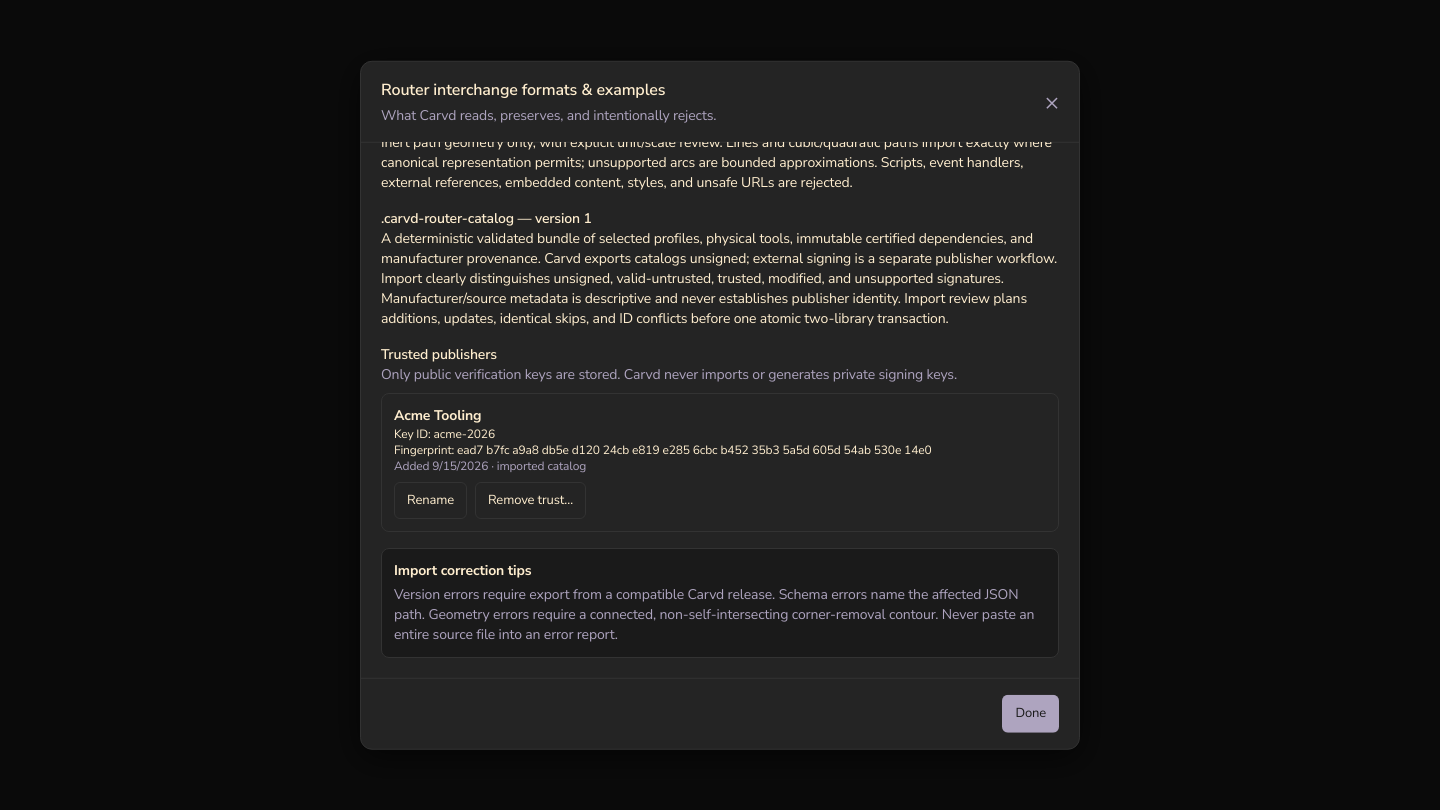
Scenario: trusted publisher management › abandons a rename without saving
(page scrolled)
Step 1. Click the button "Rename" → (430, 500), box top-left (394, 482), bottom-right (467, 518)
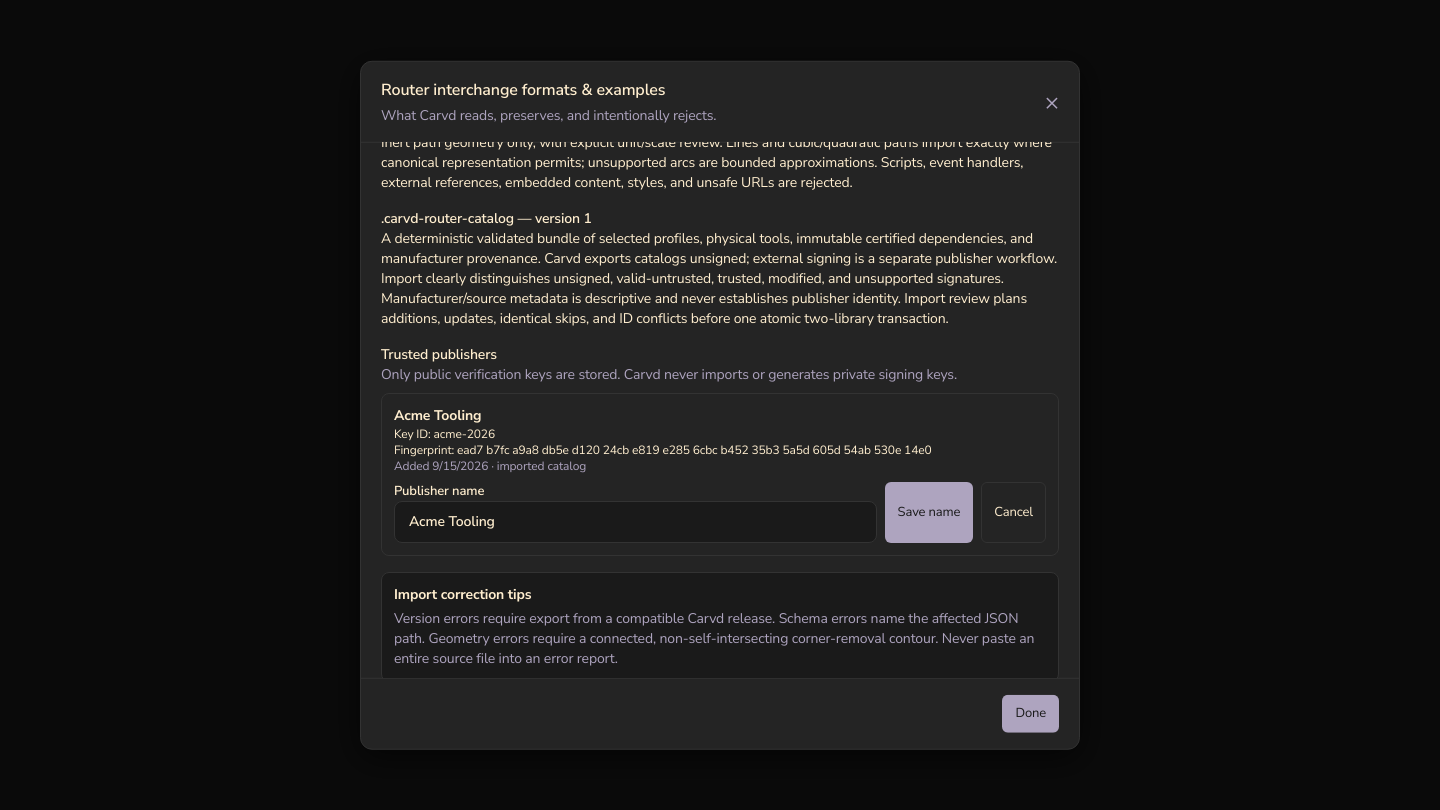
Step 2. Replace the text in the field labelled "Publisher name" with "Discarded" → (635, 521), box top-left (394, 500), bottom-right (877, 542)
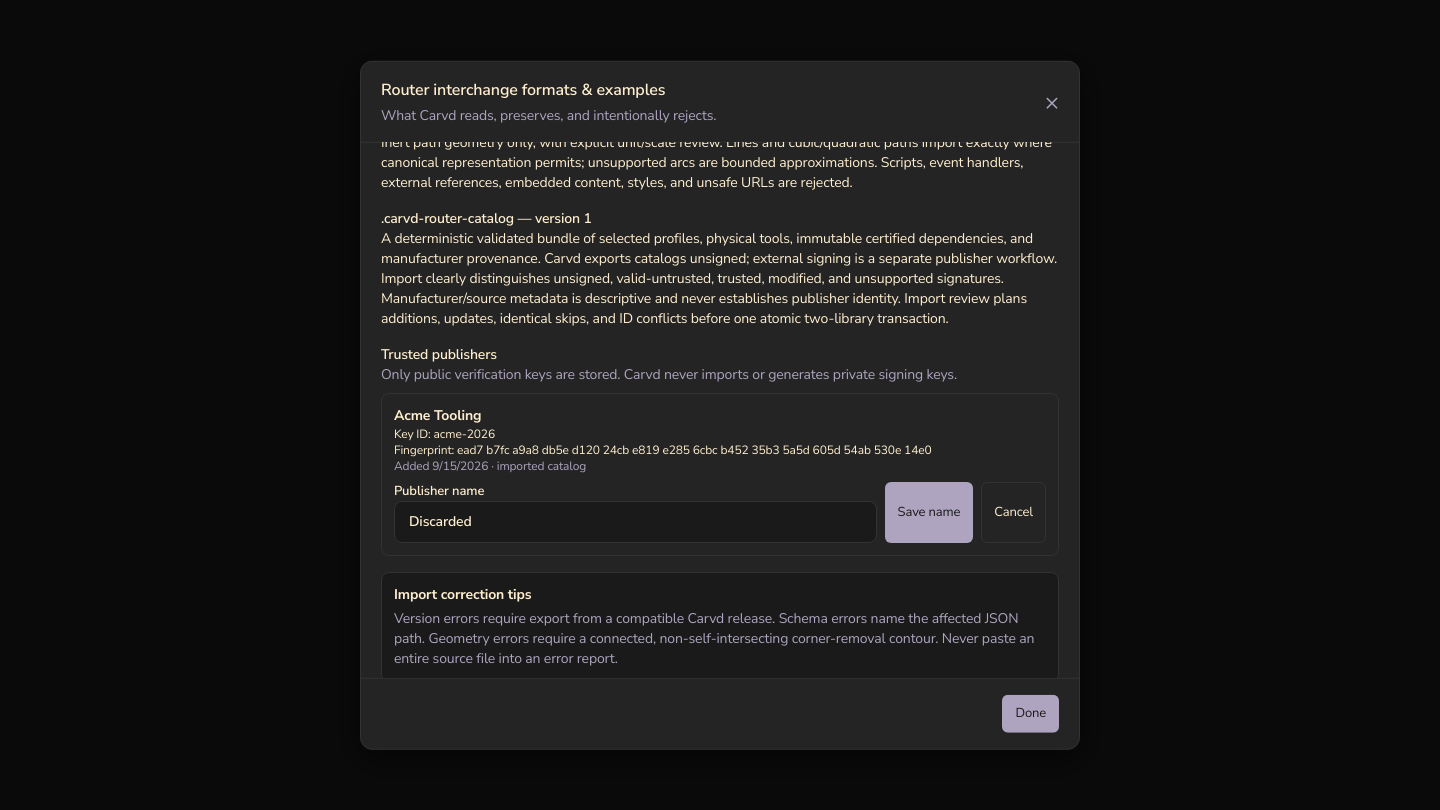
Step 3. Click the button "Cancel" → (1014, 512), box top-left (981, 482), bottom-right (1046, 542)
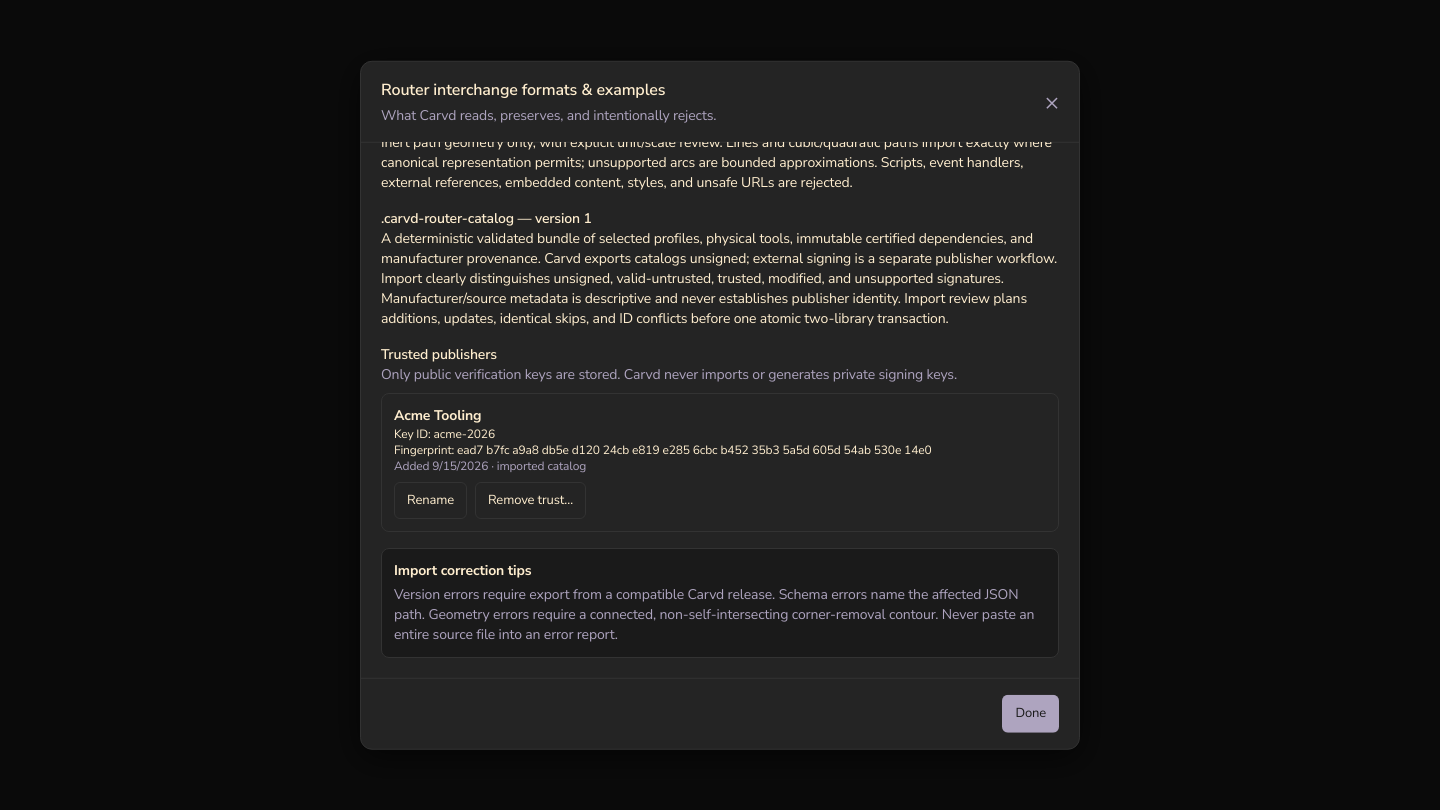
Now the button "Rename" is shown, box top-left (394, 482), bottom-right (467, 518)
